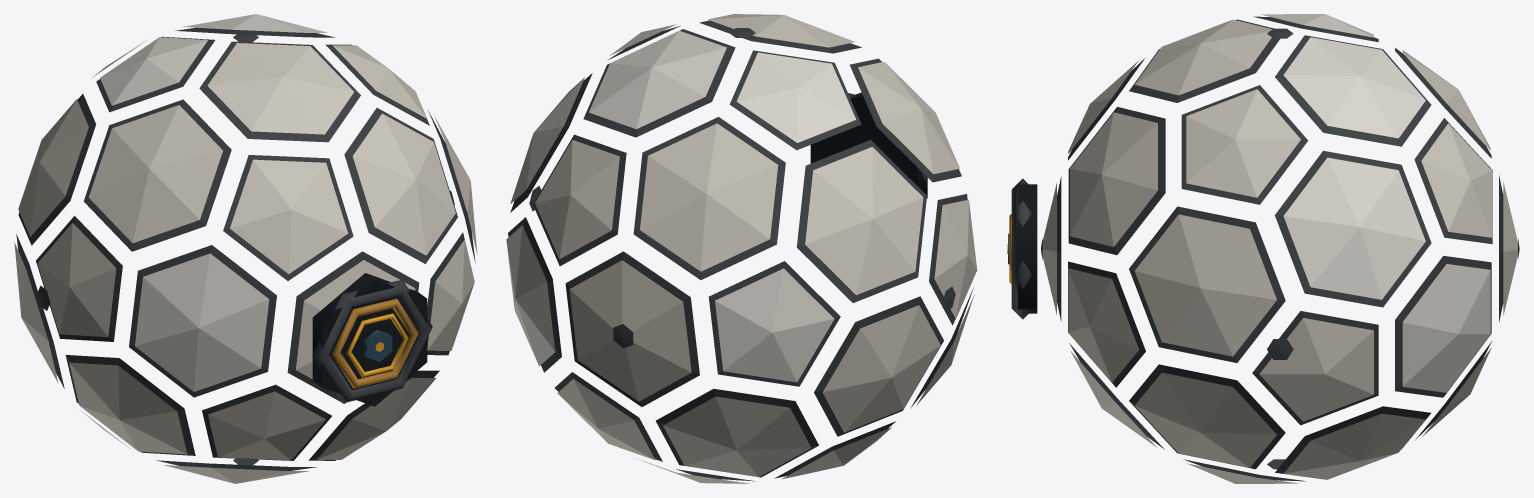
The model's file is 09_tai_01_d0_lod2.meshopt.glb.
3 views of the same model, side by side, from view 1: azimuth 30°, elevation 25°; view 2: azimuth 150°, elevation 25°; view 3: azimuth 270°, elevation 25° (orthographic). The views are drawn at different scales.
Parts seen in each view (by area): view 1: TAI_STATIC; view 2: TAI_STATIC; view 3: TAI_STATIC.
Part boxes in pixels (box(x1,y1,x2,y2)): TAI_STATIC: box(14, 14, 477, 483); TAI_STATIC: box(506, 14, 977, 483); TAI_STATIC: box(1007, 14, 1519, 483).
Bounding box in the file's own units: 1.6 × 1.6 × 1.71.
